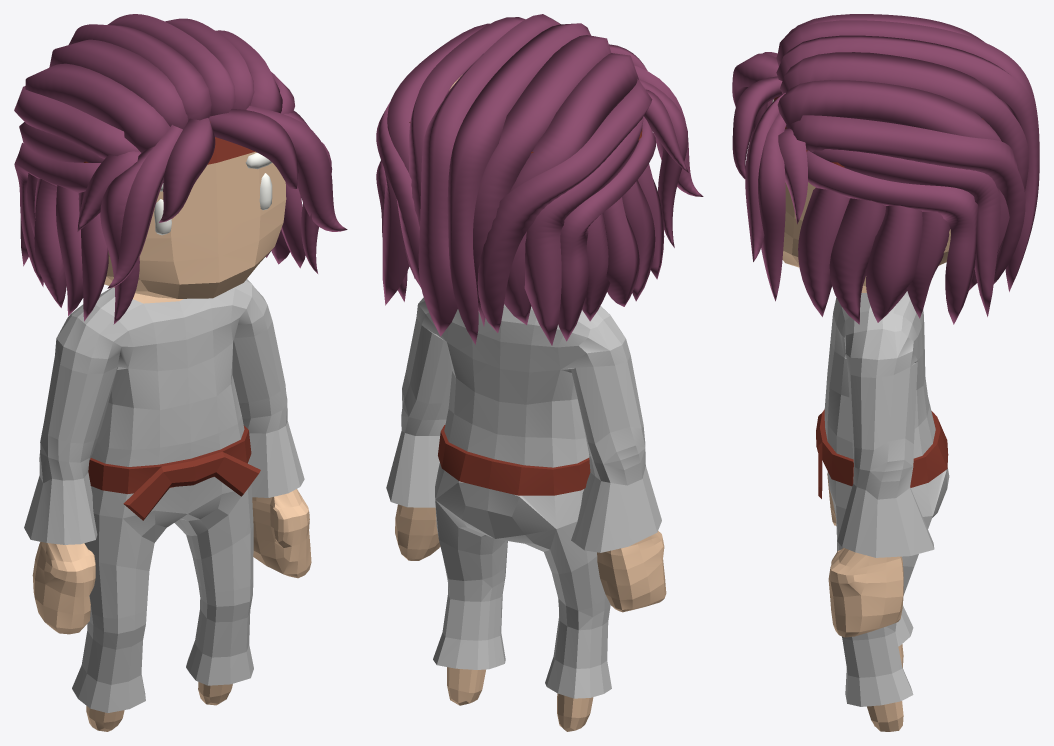
File: debout-kimono-female.glb
3 renders of one model, left to right at view 1: azimuth 30°, elevation 25°; view 2: azimuth 150°, elevation 25°; view 3: azimuth 270°, elevation 25°, orthographic.
Visible parts, largest first — view 1: Cube004_1, Cube004_4, Cube004, Cube004_2, Cube004_3; view 2: Cube004_4, Cube004_1, Cube004, Cube004_2; view 3: Cube004_4, Cube004_1, Cube004, Cube004_2.
Part boxes in pixels (bbox=[...]): Cube004_1: bbox=[24, 279, 304, 712]; Cube004_4: bbox=[14, 14, 347, 324]; Cube004: bbox=[32, 151, 311, 731]; Cube004_2: bbox=[83, 122, 260, 520]; Cube004_3: bbox=[154, 152, 272, 235]; Cube004_4: bbox=[376, 14, 703, 345]; Cube004_1: bbox=[386, 297, 661, 698]; Cube004: bbox=[395, 75, 666, 731]; Cube004_2: bbox=[409, 122, 642, 495]; Cube004_4: bbox=[732, 14, 1039, 324]; Cube004_1: bbox=[824, 291, 949, 706]; Cube004: bbox=[782, 182, 950, 731]; Cube004_2: bbox=[774, 96, 983, 498].
Size of the model in its own units: 0.655 by 1.59 by 0.6565.
